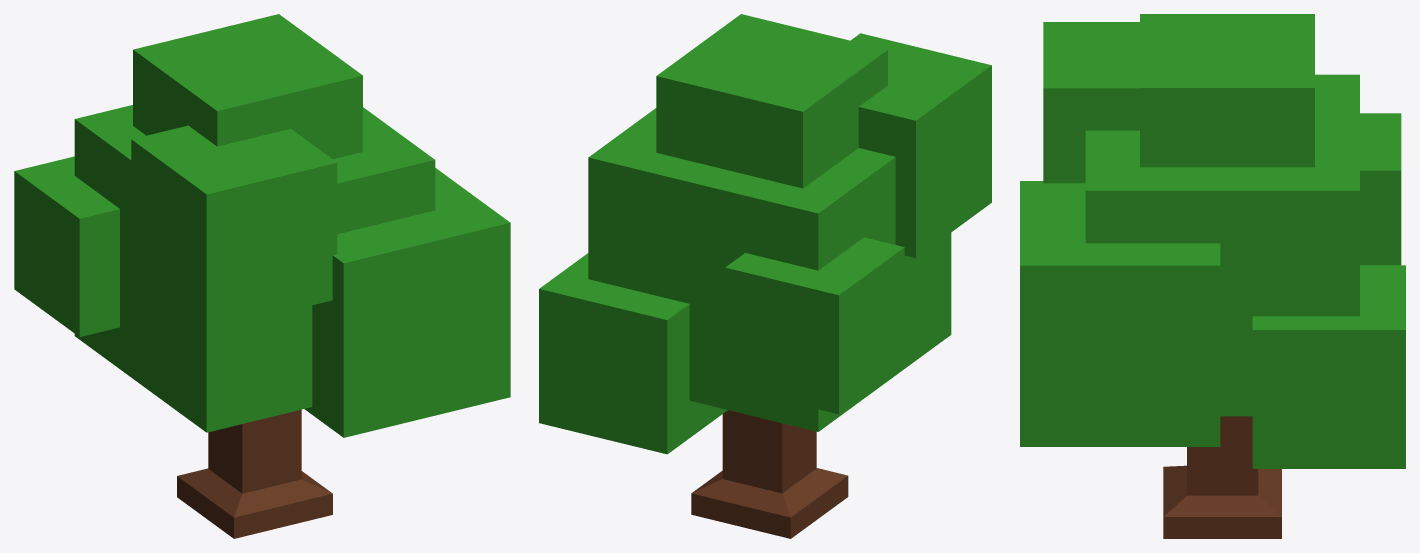
The model's file is Koivu_mod.fbx.
The picture shows the model from 3 angles, left to right: view 1: azimuth 30°, elevation 25°; view 2: azimuth 150°, elevation 25°; view 3: azimuth 270°, elevation 25°; orthographic projection. The views are drawn at different scales.
Visible parts, largest first — view 1: Koivu; view 2: Koivu; view 3: Koivu.
Boxes of the visible parts, <box> form: Koivu: <box>14,14,510,538</box>; Koivu: <box>539,14,991,538</box>; Koivu: <box>1020,14,1405,538</box>.
Bounding box in the file's own units: 194 × 262 × 199.
